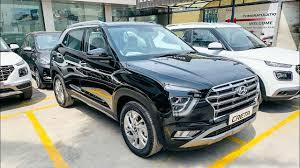non-ambulance: (51, 21, 258, 156), (167, 23, 299, 99), (19, 32, 60, 87), (0, 37, 31, 98)
